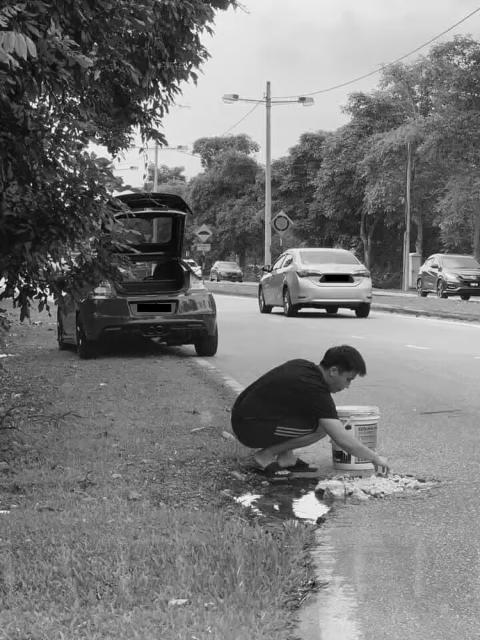Pothole: (218, 475, 346, 527)
